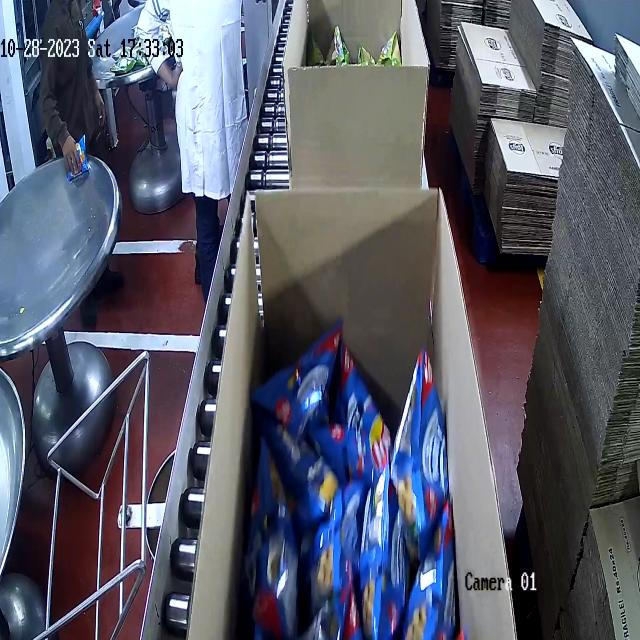PAPRIKA: (262, 334, 460, 640)
